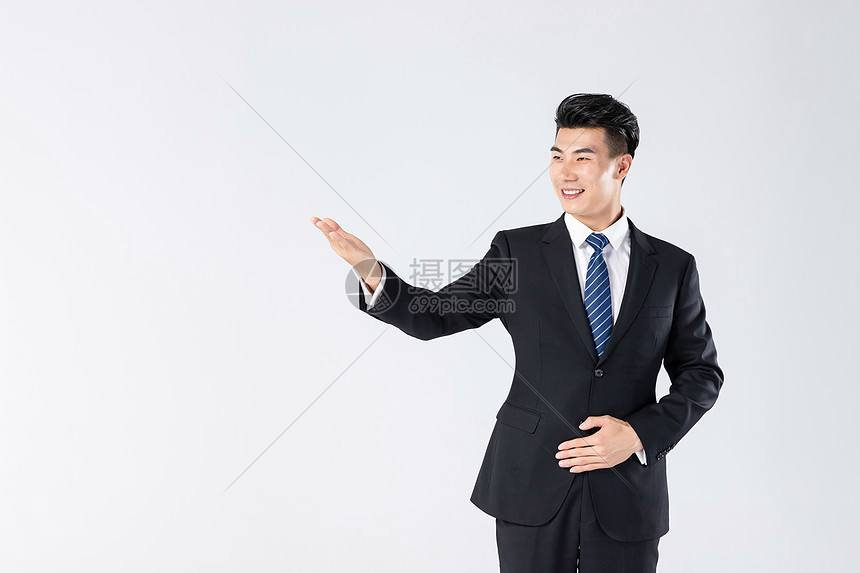no-phone: (553, 409, 634, 475), (307, 209, 376, 279)
